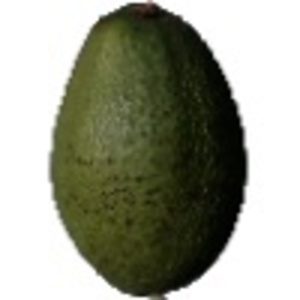abacate: (44, 3, 250, 293)
